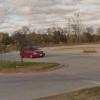Car: (16, 41, 50, 66)
